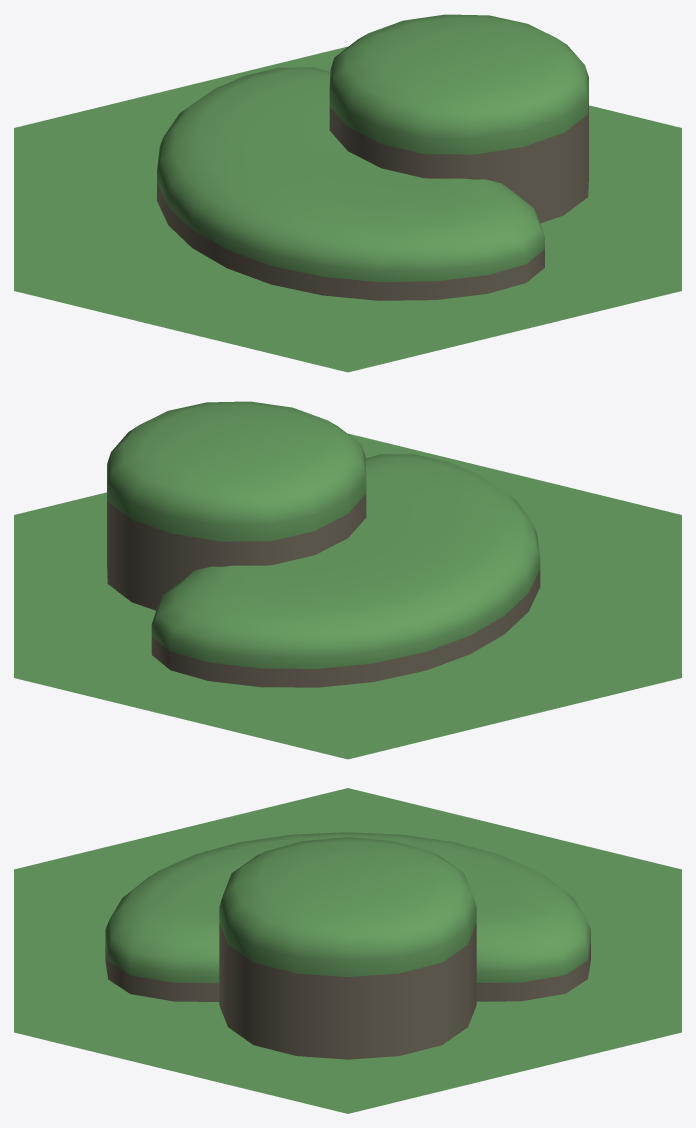
File: t_hillgroove.fbx
3 renders of one model, top to bottom at view 1: azimuth 30°, elevation 25°; view 2: azimuth 150°, elevation 25°; view 3: azimuth 270°, elevation 25°, orthographic.
Parts seen in each view (by area): view 1: t_blank3, pCube102, pCube103; view 2: t_blank3, pCube102, pCube103; view 3: t_blank3, pCube103, pCube102.
Part boxes in pixels (x1=…): t_blank3: x1=14, y1=46, x2=681, y2=372; pCube102: x1=157, y1=67, x2=544, y2=300; pCube103: x1=329, y1=14, x2=588, y2=223; t_blank3: x1=14, y1=433, x2=681, y2=759; pCube102: x1=151, y1=454, x2=540, y2=687; pCube103: x1=107, y1=401, x2=366, y2=610; t_blank3: x1=14, y1=788, x2=681, y2=1113; pCube103: x1=219, y1=837, x2=476, y2=1059; pCube102: x1=105, y1=832, x2=590, y2=1001.
Bounding box in the file's own units: 20000 × 3928 × 17321.
